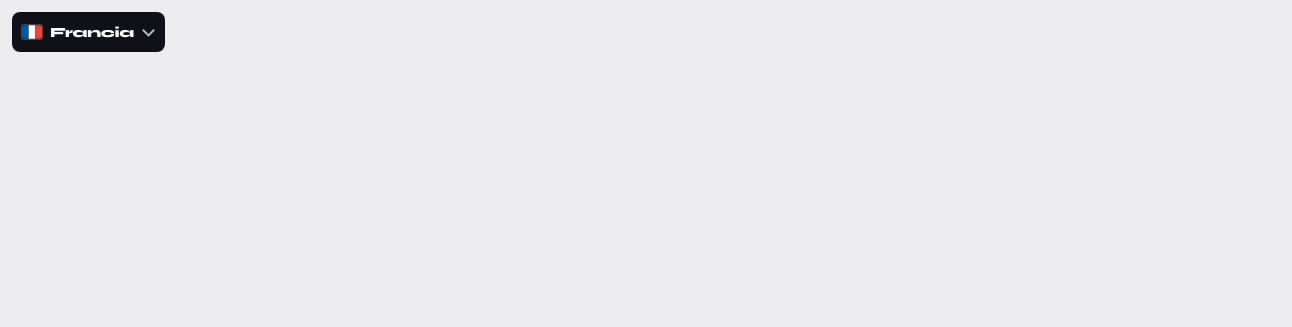
Scenario: CountryPicker › lists the active countries by name under its title
Click the button with aria-label "Paese delle uscite" at (88, 32), box [12,12,165,52]
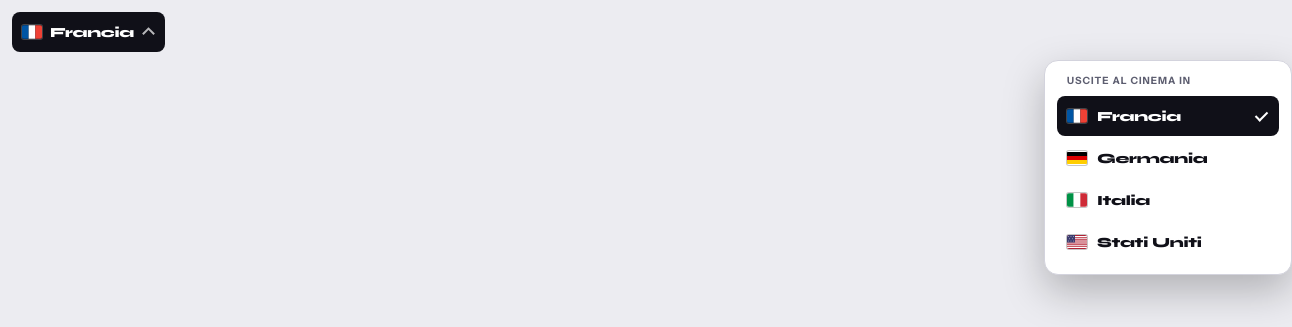
Now the links read "Francia", "Germania", "Italia", "Stati Uniti", in this order, box [1057,96,1279,136]; [1067,150,1207,166]; [1067,192,1150,208]; [1067,234,1202,250]
